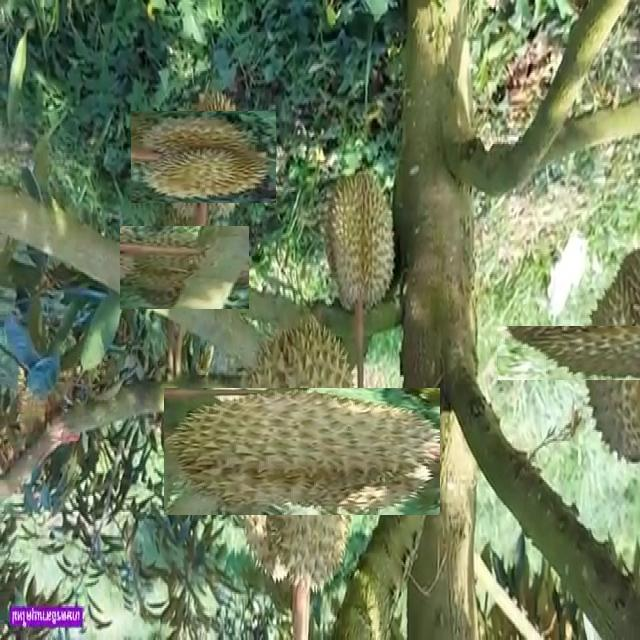durian: (201, 351, 403, 553), (541, 283, 640, 425), (145, 98, 263, 216), (321, 161, 396, 318), (131, 214, 237, 321)
